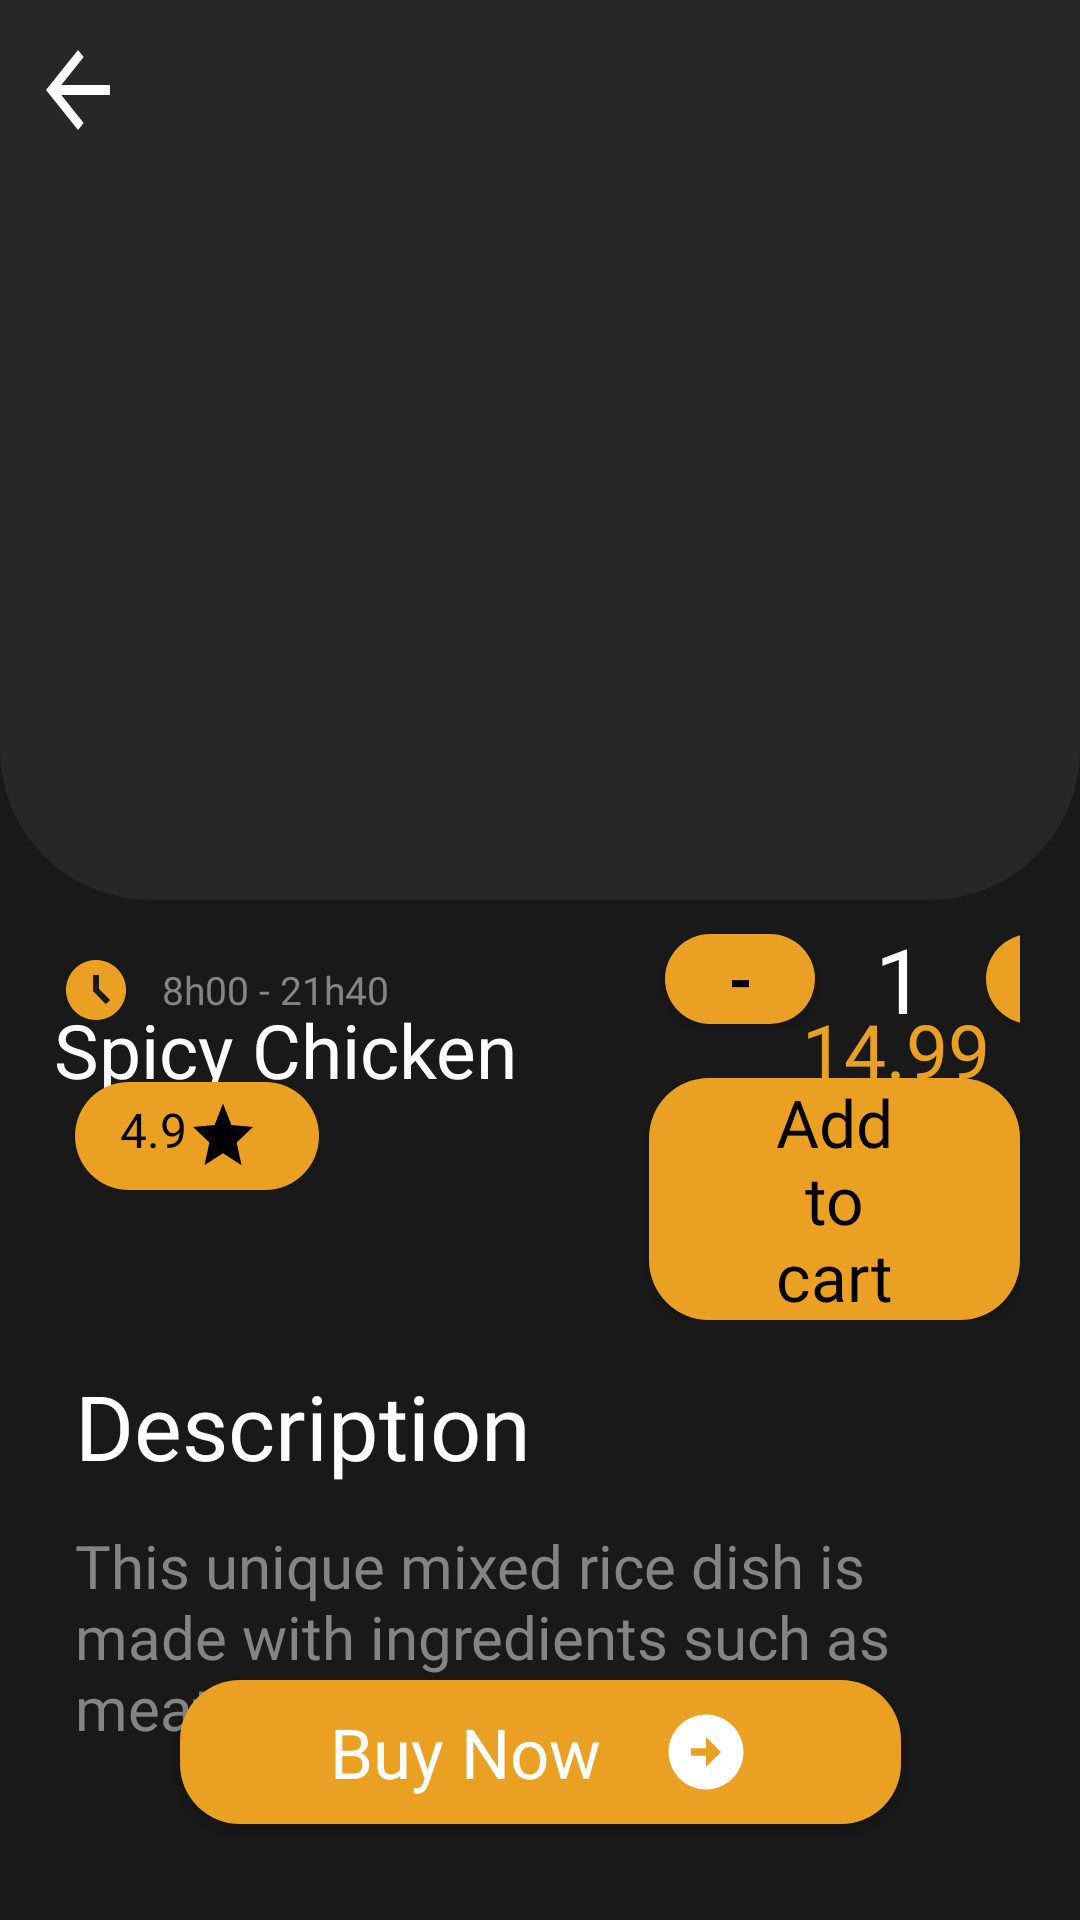

Screen size 1080 × 1920. Icon name, then its center in pixels as (x=x, y=y):
access time: (x=96, y=990)
arrow back: (x=78, y=90)
